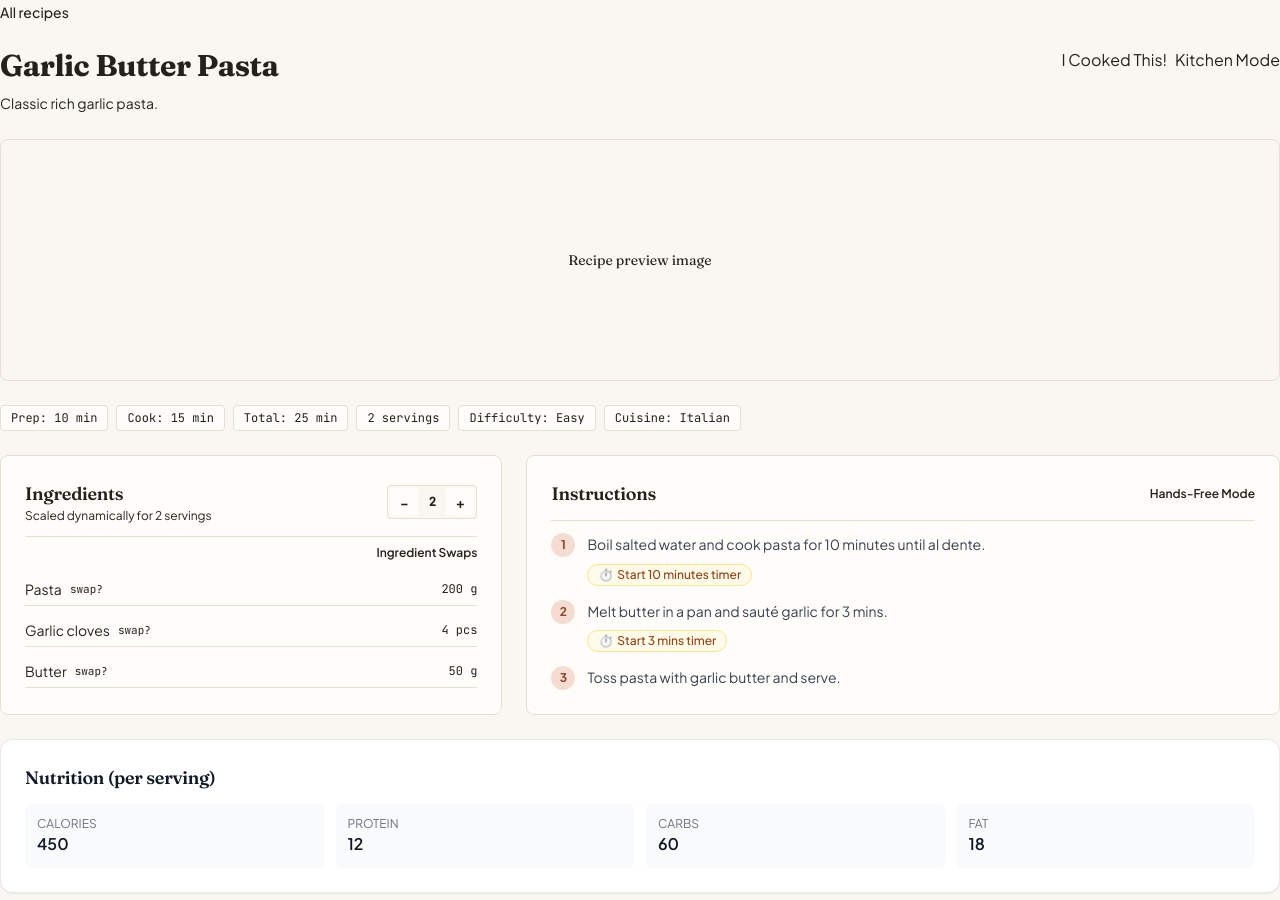
Test: RecipeDetailPage guest browsing › opens the swaps modal from the Ingredient Swaps button for guests
The image size is (1280, 900).
Click the button "Ingredient Swaps" at (427, 553), box [376, 545, 477, 561]
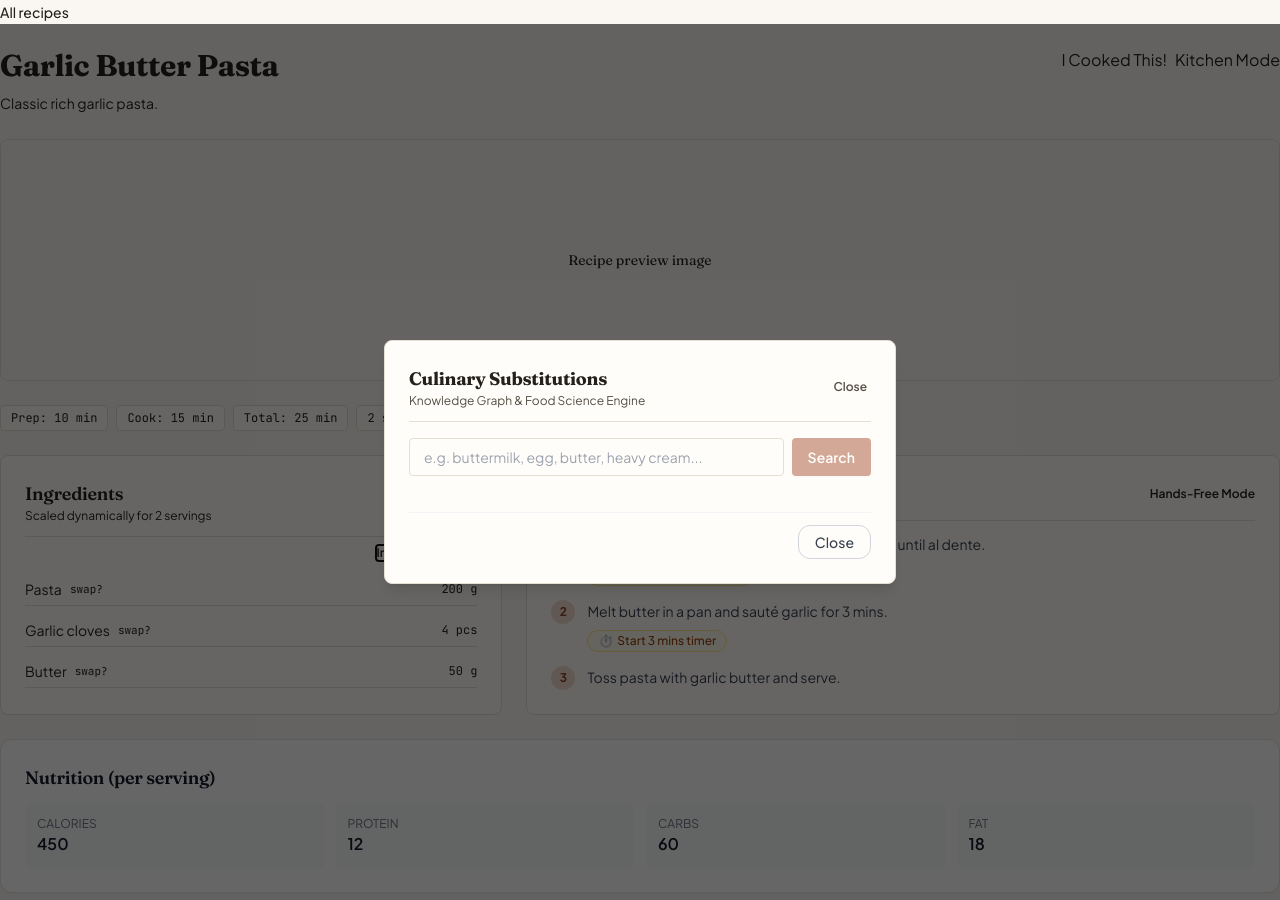
Expected: the heading "Culinary Substitutions" is shown, [409, 367, 607, 390]
